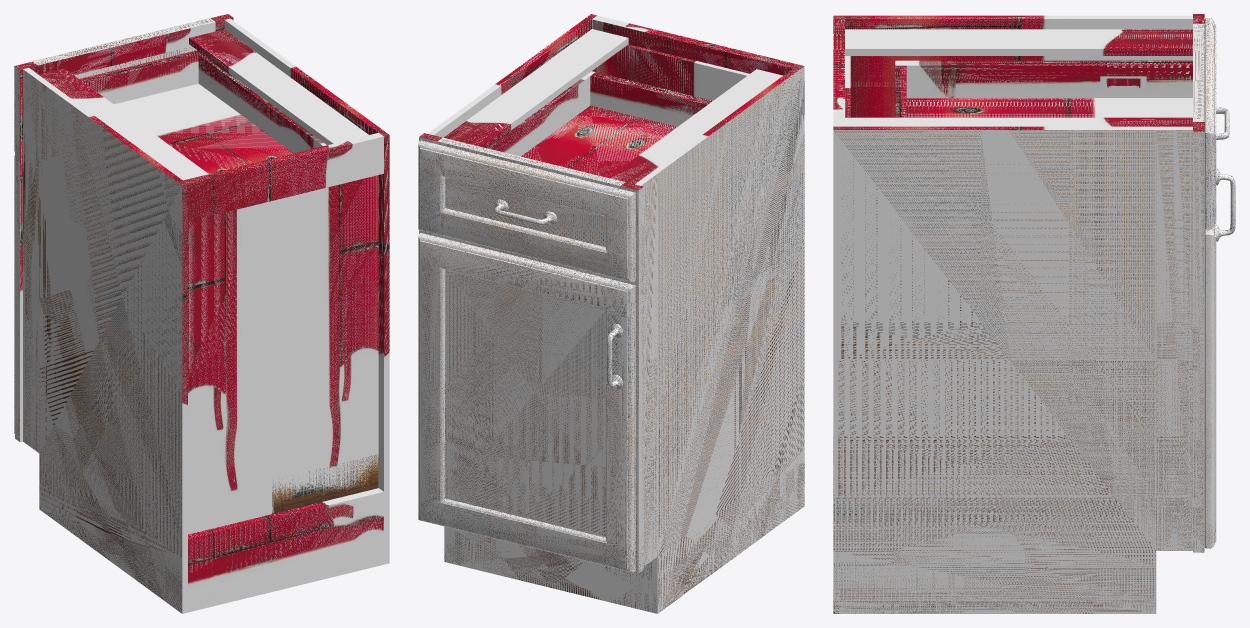
The picture shows the model from 3 angles, left to right: view 1: azimuth 30°, elevation 25°; view 2: azimuth 150°, elevation 25°; view 3: azimuth 270°, elevation 25°; orthographic projection. The views are drawn at different scales.
Parts seen in each view (by area): view 1: mesh5_mesh5-geometry, mesh8_mesh8-geometry, mesh13_mesh13-geometry, mesh9_mesh9-geometry, mesh4_mesh4-geometry, mesh20_mesh20-geometry, mesh7_mesh7-geometry, mesh11_mesh11-geometry, mesh15_mesh15-geometry, mesh6_mesh6-geometry, mesh16_mesh16-geometry, mesh17_mesh17-geometry (+4 smaller); view 2: mesh8_mesh8-geometry, mesh39_mesh39-geometry, mesh9_mesh9-geometry, mesh14_mesh14-geometry, mesh42_mesh42-geometry, mesh43_mesh43-geometry, mesh15_mesh15-geometry, mesh20_mesh20-geometry, mesh7_mesh7-geometry, mesh40_mesh40-geometry, mesh28_mesh28-geometry, mesh41_mesh41-geometry (+22 smaller); view 3: mesh11_mesh11-geometry, mesh12_mesh12-geometry, mesh10_mesh10-geometry, mesh17_mesh17-geometry, mesh16_mesh16-geometry, mesh8_mesh8-geometry, mesh20_mesh20-geometry, mesh3_mesh3-geometry, mesh15_mesh15-geometry, mesh42_mesh42-geometry, mesh4_mesh4-geometry, mesh6_mesh6-geometry (+6 smaller).
Part boxes in pixels (x1,y1,x2,y2): mesh5_mesh5-geometry: (188,175,378,534); mesh8_mesh8-geometry: (39,79,187,557); mesh13_mesh13-geometry: (188,488,383,612); mesh9_mesh9-geometry: (39,454,187,613); mesh4_mesh4-geometry: (183,132,383,221); mesh20_mesh20-geometry: (114,83,293,173); mesh7_mesh7-geometry: (23,67,44,452); mesh11_mesh11-geometry: (241,30,389,508); mesh15_mesh15-geometry: (189,29,368,145); mesh6_mesh6-geometry: (33,18,215,75); mesh16_mesh16-geometry: (39,68,208,180); mesh17_mesh17-geometry: (194,50,326,153); mesh8_mesh8-geometry: (652,64,804,555); mesh39_mesh39-geometry: (447,271,605,534); mesh9_mesh9-geometry: (651,449,804,613); mesh14_mesh14-geometry: (450,528,651,612); mesh42_mesh42-geometry: (418,266,446,497); mesh43_mesh43-geometry: (605,310,635,542); mesh15_mesh15-geometry: (444,29,628,147); mesh20_mesh20-geometry: (521,105,677,177); mesh7_mesh7-geometry: (635,172,657,565); mesh40_mesh40-geometry: (444,239,607,310); mesh28_mesh28-geometry: (444,147,607,215); mesh41_mesh41-geometry: (444,496,605,565); mesh11_mesh11-geometry: (833,126,1156,550); mesh12_mesh12-geometry: (833,551,1156,613); mesh10_mesh10-geometry: (1156,126,1192,550); mesh17_mesh17-geometry: (895,60,1192,97); mesh16_mesh16-geometry: (845,29,1192,55); mesh8_mesh8-geometry: (833,15,1156,117); mesh20_mesh20-geometry: (906,98,1192,117); mesh3_mesh3-geometry: (1193,14,1204,552); mesh15_mesh15-geometry: (845,117,1192,126); mesh42_mesh42-geometry: (1204,266,1216,515); mesh4_mesh4-geometry: (833,19,844,126); mesh6_mesh6-geometry: (1193,23,1204,121).
Size of the model in its own units: 0.3846 by 0.7372 by 0.5556.
